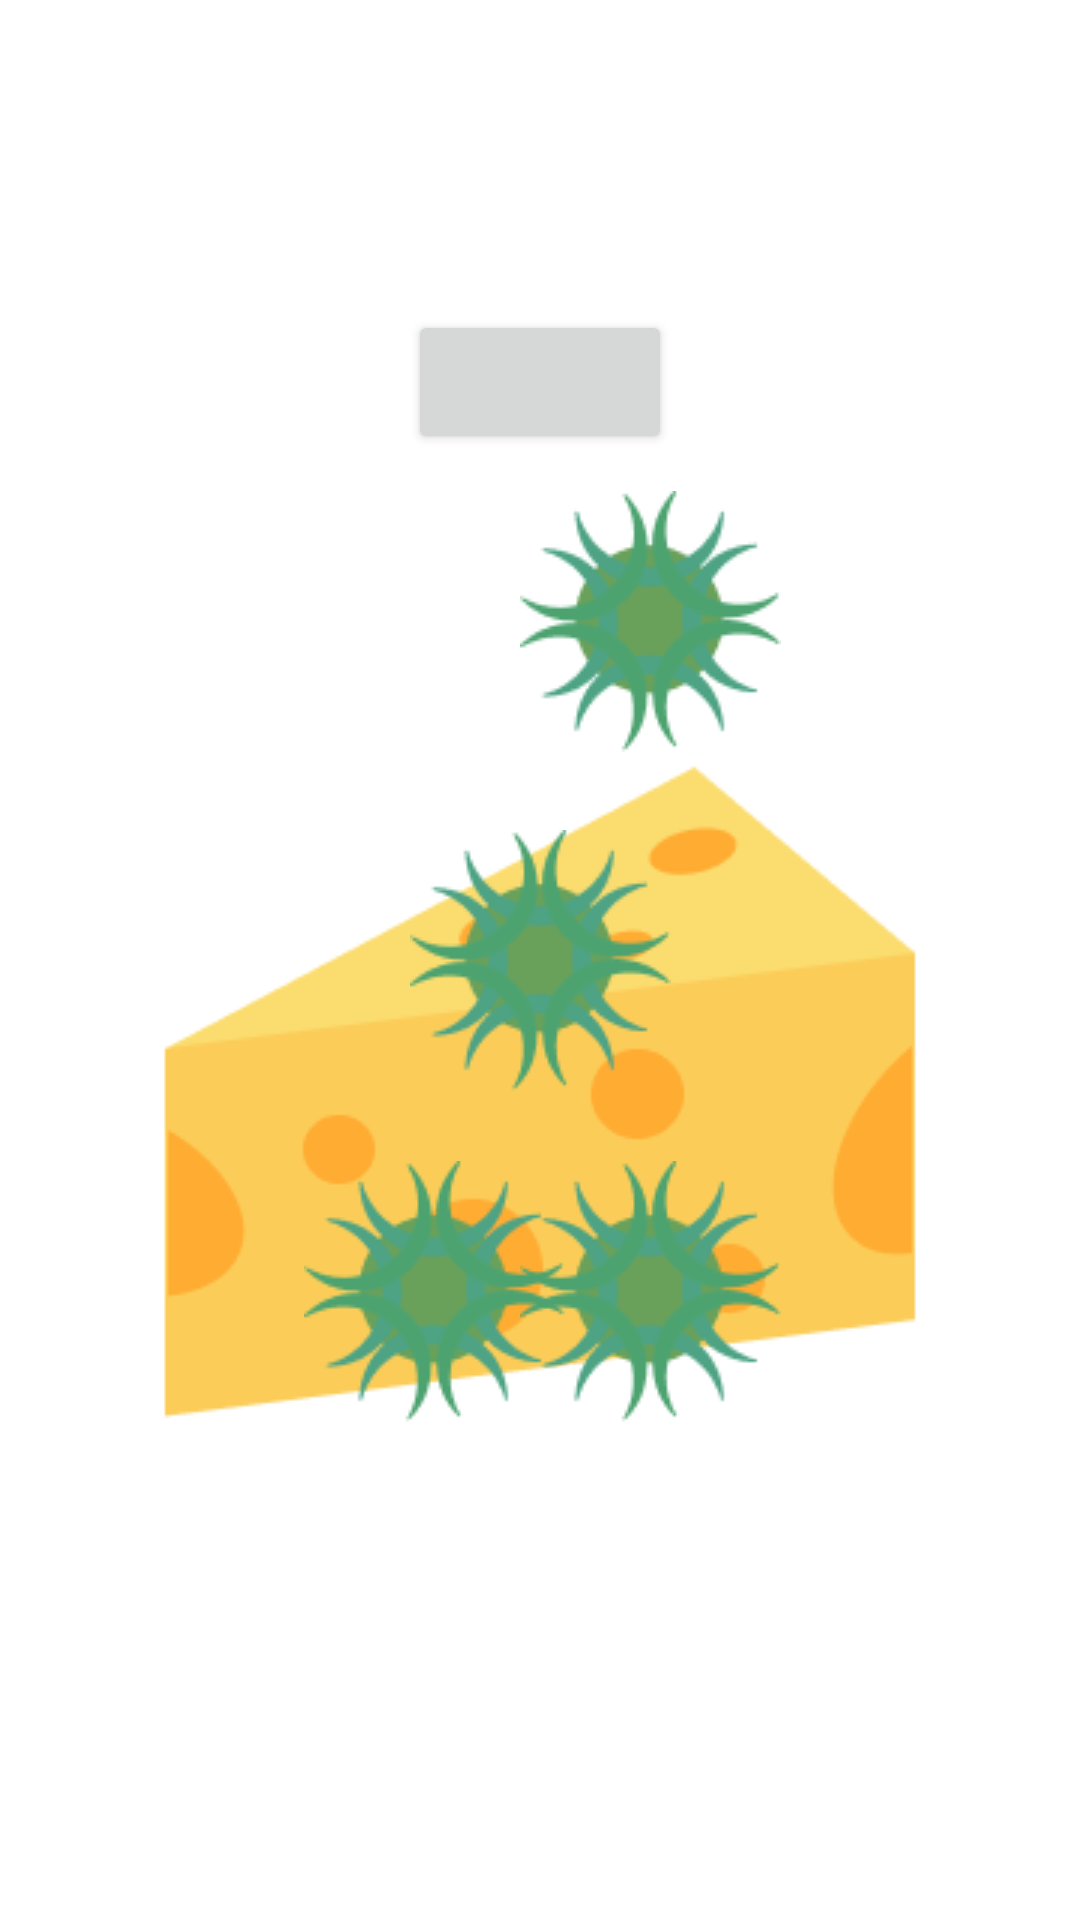

Icons on this 1080 x 1920 Android screen, each with the point to tap as (x,y):
mold: (650,620), (540,960), (434,1291), (650,1291)
